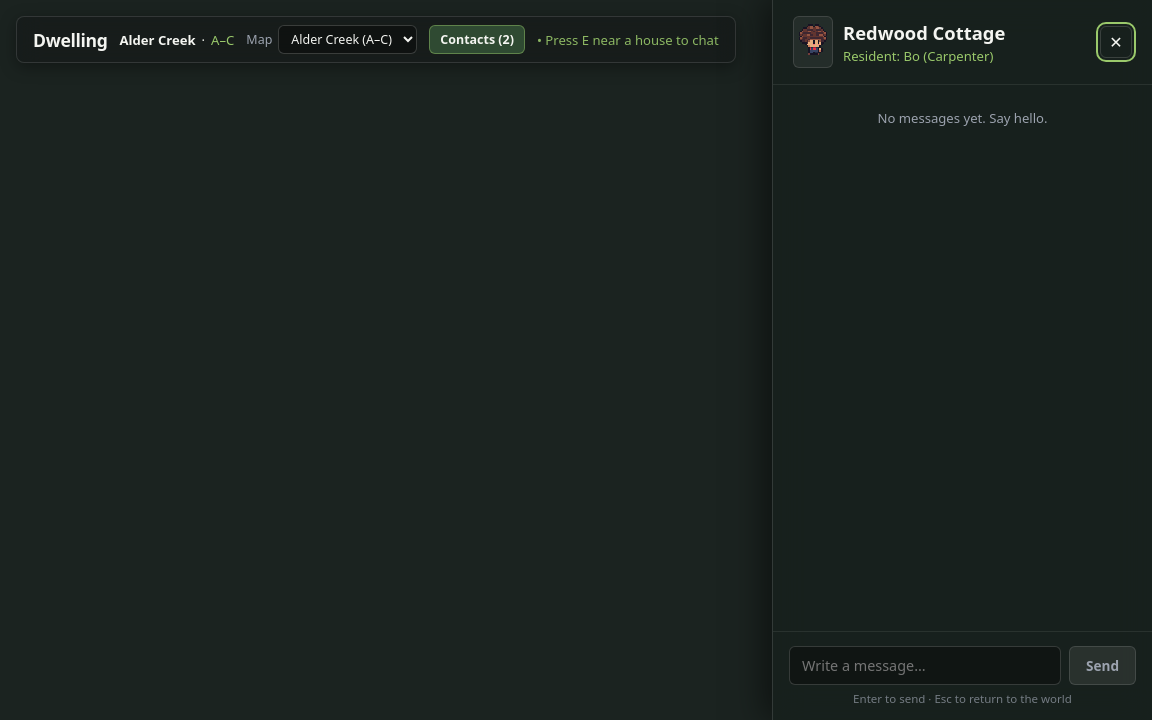
it: App conversation drawer › sends a message and appends it to the feed
Expected: the button "Contacts (2)" is shown, [429,25,525,54]
Type "On my way!" into the field labelled "message" at (925, 666), box [789,646,1061,685]
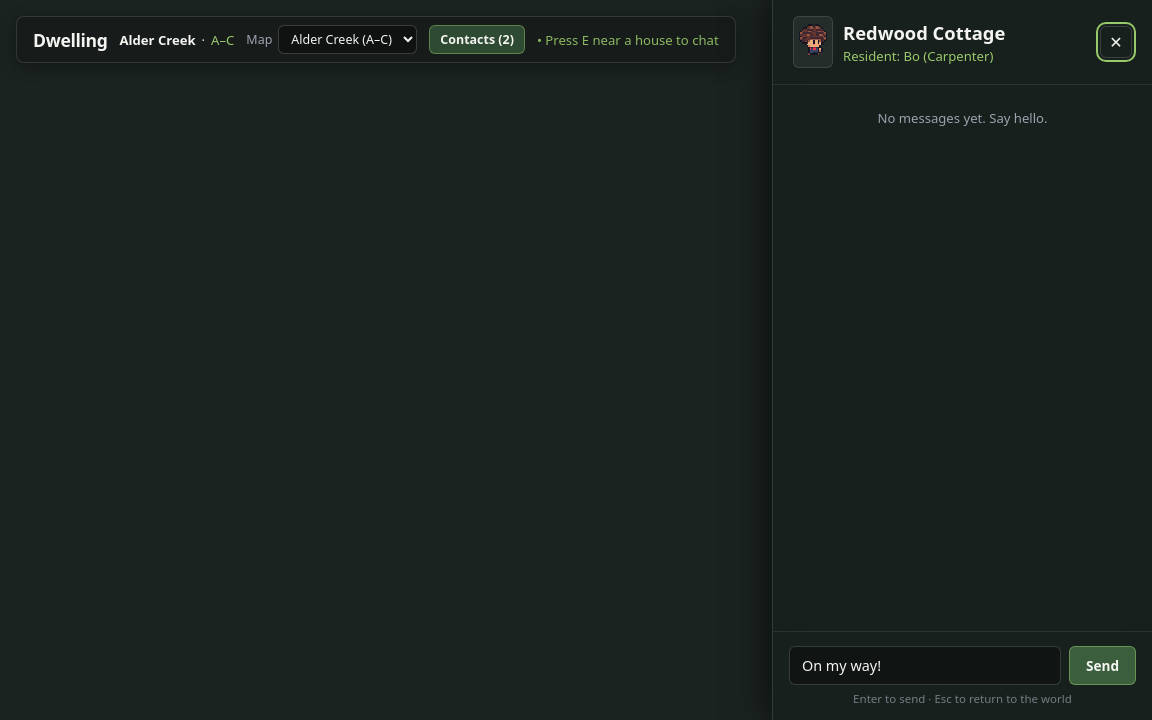
Click the button "Send" at (1102, 666), box [1069,646,1136,685]
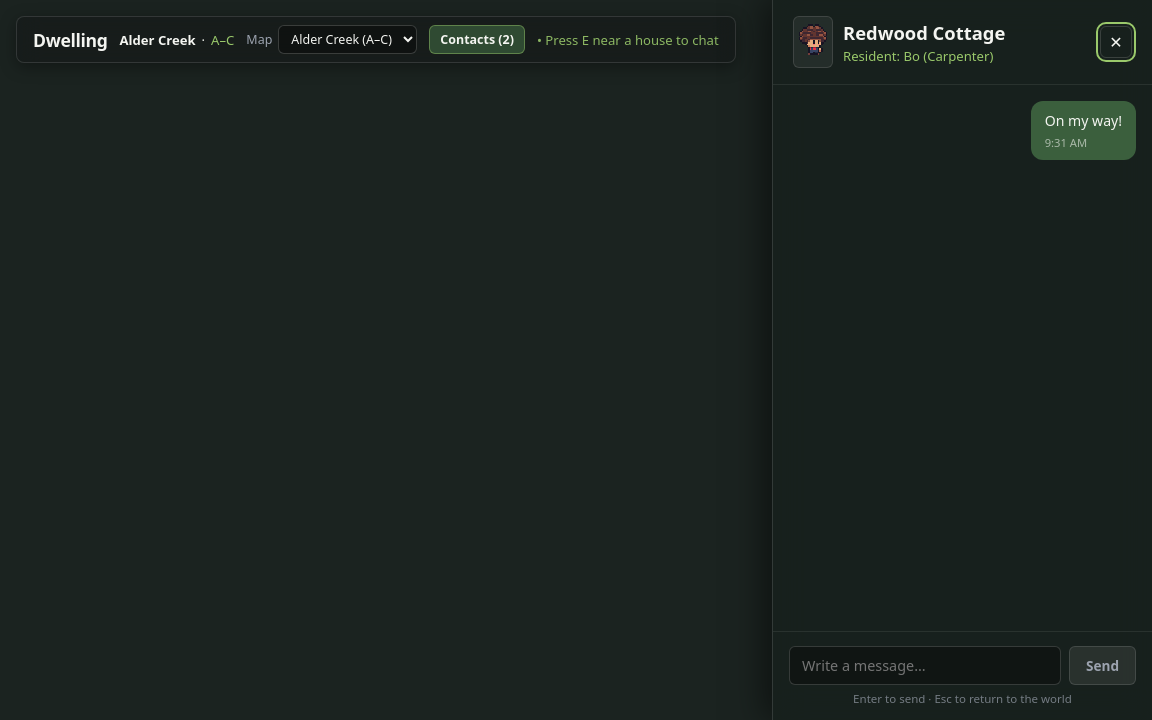
Expected: the text "On my way!" is shown, [1045,111,1122,131]
Expected: the field labelled "message" is empty, [789,646,1061,685]
